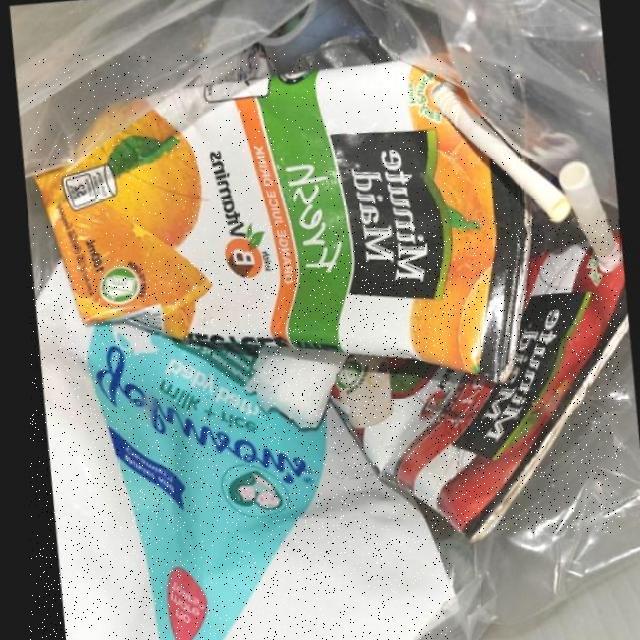paper: (29, 54, 523, 370), (330, 219, 621, 532), (240, 341, 344, 427)
wrapper: (30, 260, 451, 640)
